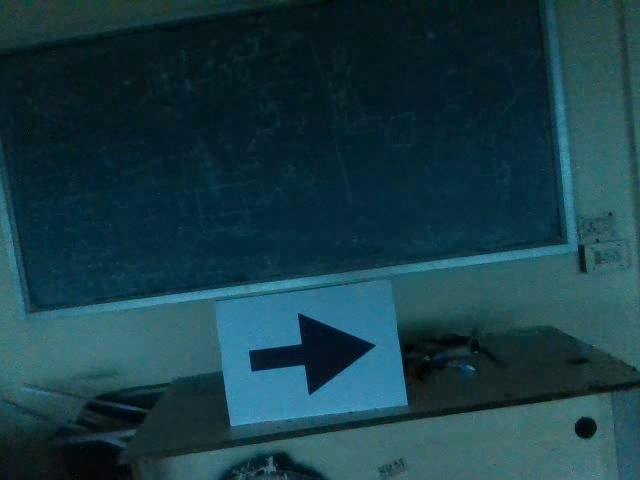Right: (234, 305, 380, 398)
